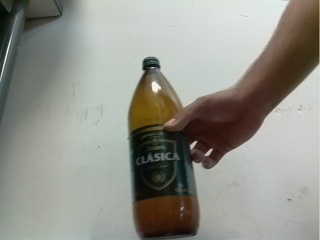pote cristal: (127, 57, 201, 240)
